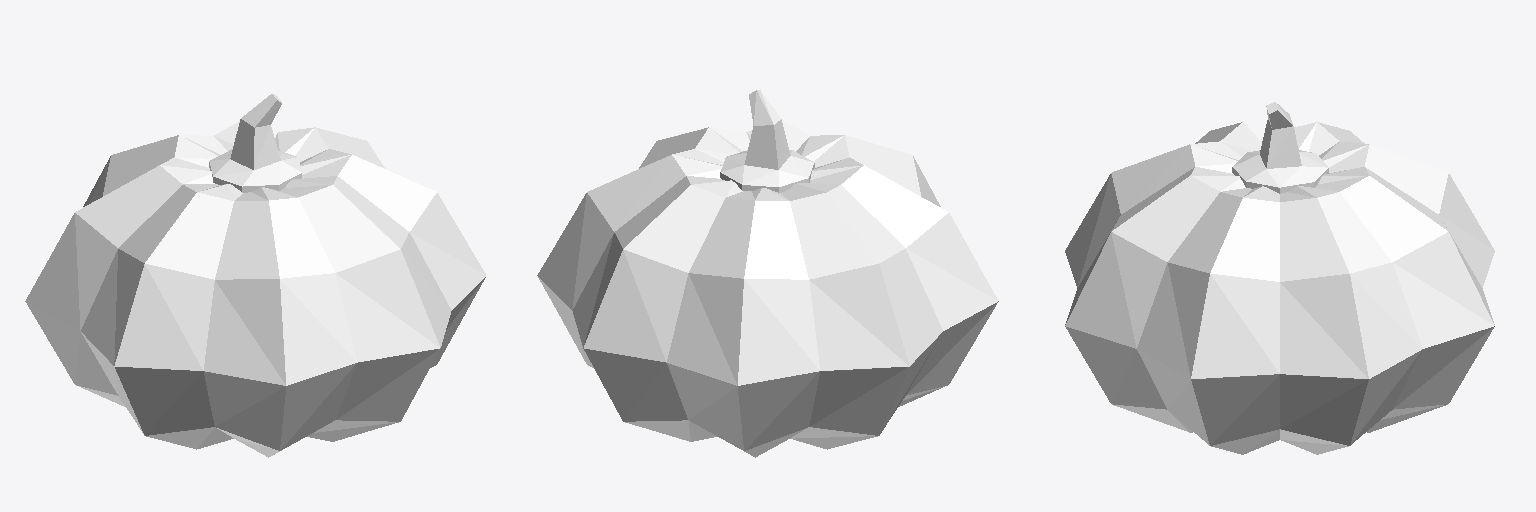
3 renders of one model, left to right at view 1: azimuth 30°, elevation 25°; view 2: azimuth 150°, elevation 25°; view 3: azimuth 270°, elevation 25°, orthographic.
Parts seen in each view (by area): view 1: Pumpkin_Circle; view 2: Pumpkin_Circle; view 3: Pumpkin_Circle.
Part boxes in pixels (x1,y1,x2,y2): Pumpkin_Circle: (25,94,486,457); Pumpkin_Circle: (537,90,998,457); Pumpkin_Circle: (1065,102,1494,454).
Size of the model in its own units: 1 by 0.8266 by 1.
Materials: 1 (1 with a texture image).